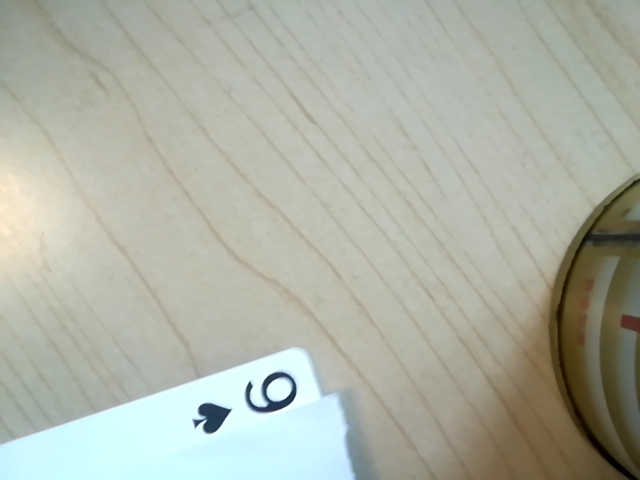ht 9: (189, 364, 318, 429)
